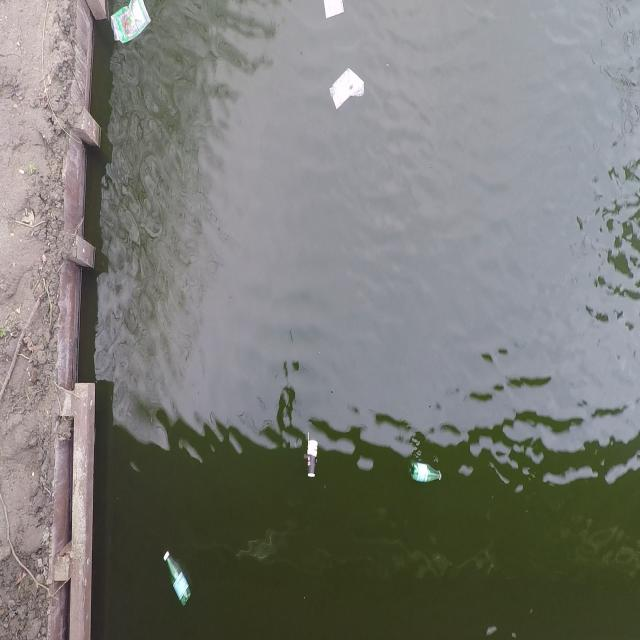Bouteille plastique: (161, 544, 195, 616), (406, 454, 445, 488)
Non plastique: (304, 428, 318, 480)
Sac plastique: (107, 0, 156, 52), (323, 67, 368, 115)
